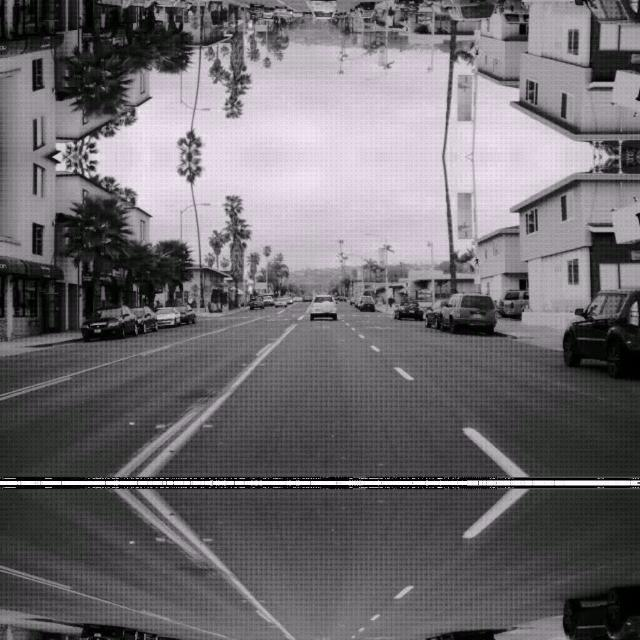pedestrianCrossing: (468, 252, 484, 270), (468, 42, 484, 59)
